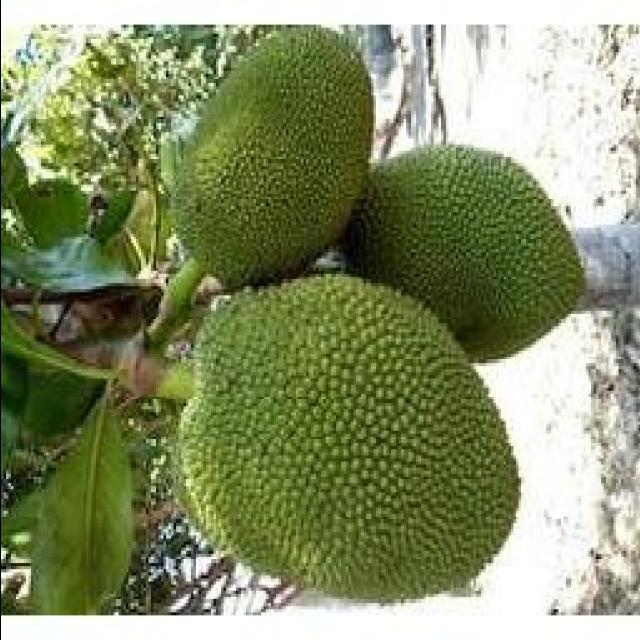Fruit: (152, 243, 542, 628), (322, 123, 608, 385), (165, 24, 385, 310)
